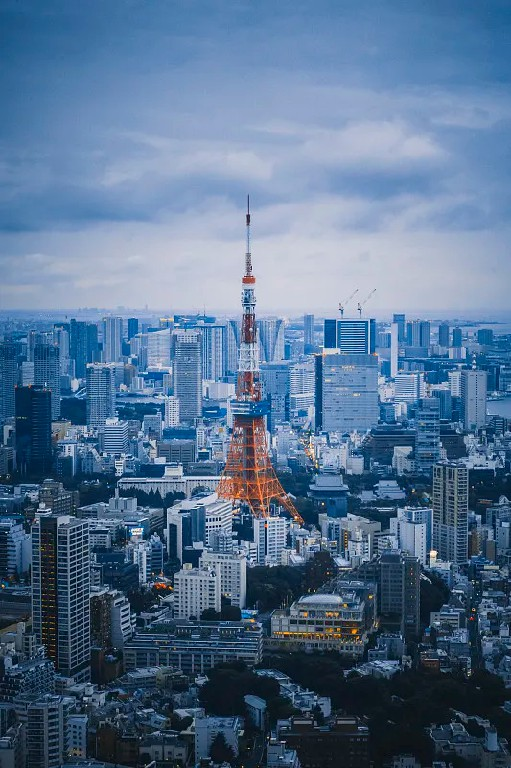Tokyo: (211, 190, 299, 524)
